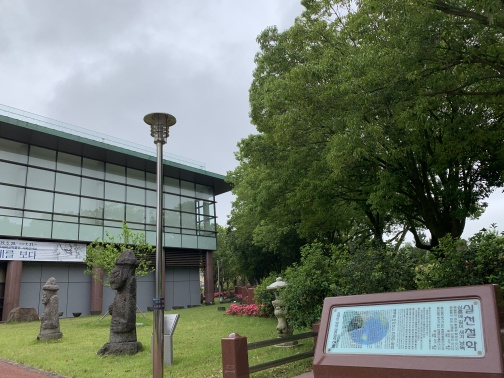Museum: (1, 105, 243, 318)
